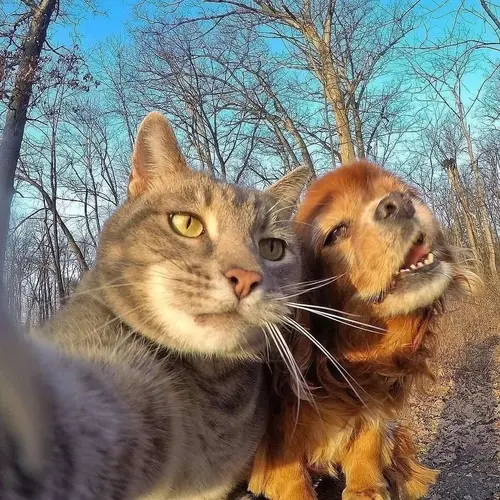anjing: (302, 141, 464, 499)
kucing: (23, 109, 299, 499)
